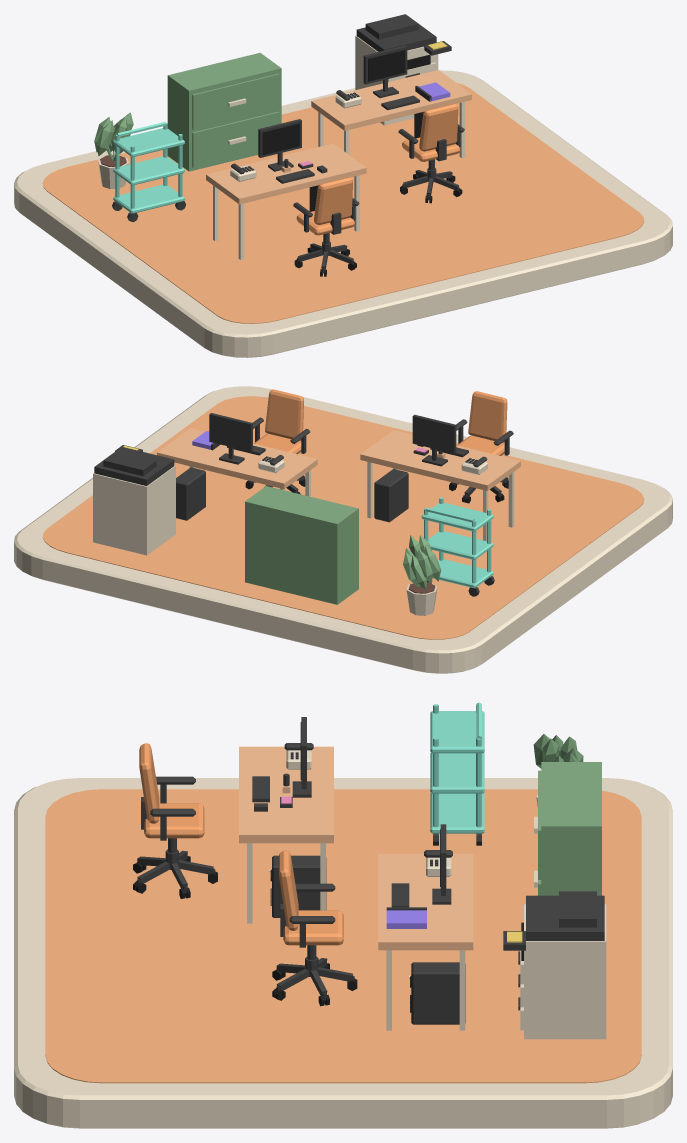
3 views of the same model, one above another, from view 1: azimuth 30°, elevation 25°; view 2: azimuth 150°, elevation 25°; view 3: azimuth 270°, elevation 25° (orthographic). The views are drawn at different scales.
Visible parts, largest first — view 1: COM-02 Floor Surface, COM-01 Rounded Base Direct, Cabinet, Top, Top.001, Body, COM-04_Chair_blender_direct.001, COM-04_Chair_blender_direct, Pot, Frame.001, Frame, Tray.002 (+2 smaller); view 2: COM-02 Floor Surface, COM-01 Rounded Base Direct, Cabinet, Body, Top, Top.001, COM-04_Chair_blender_direct, COM-04_Chair_blender_direct.001, Pot, Frame, Tower, Frame.001 (+4 smaller); view 3: COM-02 Floor Surface, COM-01 Rounded Base Direct, Body, Cabinet, Top, Top.001, COM-04_Chair_blender_direct.001, COM-04_Chair_blender_direct, Tower.001, Tray.002, Tray.001, Tray (+5 smaller).
Boxes of the visible parts, x1=… form: COM-02 Floor Surface: x1=42, y1=83, x2=644, y2=323; COM-01 Rounded Base Direct: x1=14, y1=70, x2=672, y2=357; Cabinet: x1=167, y1=52, x2=281, y2=171; Top: x1=206, y1=143, x2=366, y2=259; Top.001: x1=311, y1=70, x2=471, y2=157; Body: x1=355, y1=14, x2=451, y2=125; COM-04_Chair_blender_direct.001: x1=398, y1=103, x2=464, y2=203; COM-04_Chair_blender_direct: x1=293, y1=177, x2=359, y2=276; Pot: x1=94, y1=112, x2=133, y2=188; Frame.001: x1=363, y1=45, x2=407, y2=98; Frame: x1=258, y1=119, x2=301, y2=171; Tray.002: x1=113, y1=128, x2=184, y2=157; COM-02 Floor Surface: x1=42, y1=396, x2=644, y2=639; COM-01 Rounded Base Direct: x1=14, y1=386, x2=672, y2=673; Cabinet: x1=245, y1=486, x2=358, y2=604; Body: x1=93, y1=445, x2=175, y2=555; Top: x1=360, y1=430, x2=520, y2=541; Top.001: x1=157, y1=428, x2=317, y2=496; COM-04_Chair_blender_direct: x1=449, y1=391, x2=513, y2=503; COM-04_Chair_blender_direct.001: x1=245, y1=389, x2=310, y2=494; Pot: x1=403, y1=535, x2=441, y2=615; Frame: x1=412, y1=414, x2=456, y2=466; Tower: x1=374, y1=469, x2=408, y2=522; Frame.001: x1=209, y1=413, x2=252, y2=464; COM-02 Floor Surface: x1=45, y1=789, x2=641, y2=1083; COM-01 Rounded Base Direct: x1=14, y1=778, x2=672, y2=1128; Body: x1=503, y1=891, x2=606, y2=1039; Cabinet: x1=534, y1=762, x2=601, y2=895; Top: x1=239, y1=746, x2=333, y2=923; Top.001: x1=378, y1=854, x2=473, y2=1030; COM-04_Chair_blender_direct.001: x1=272, y1=850, x2=357, y2=1006; COM-04_Chair_blender_direct: x1=133, y1=743, x2=217, y2=898; Tower.001: x1=411, y1=962, x2=465, y2=1024; Tray.002: x1=430, y1=711, x2=484, y2=753; Tray.001: x1=430, y1=752, x2=484, y2=793; Tray: x1=430, y1=793, x2=484, y2=833.
Size of the model in its own units: 6 by 1.61 by 5.2.
1 material, 1 textured.
